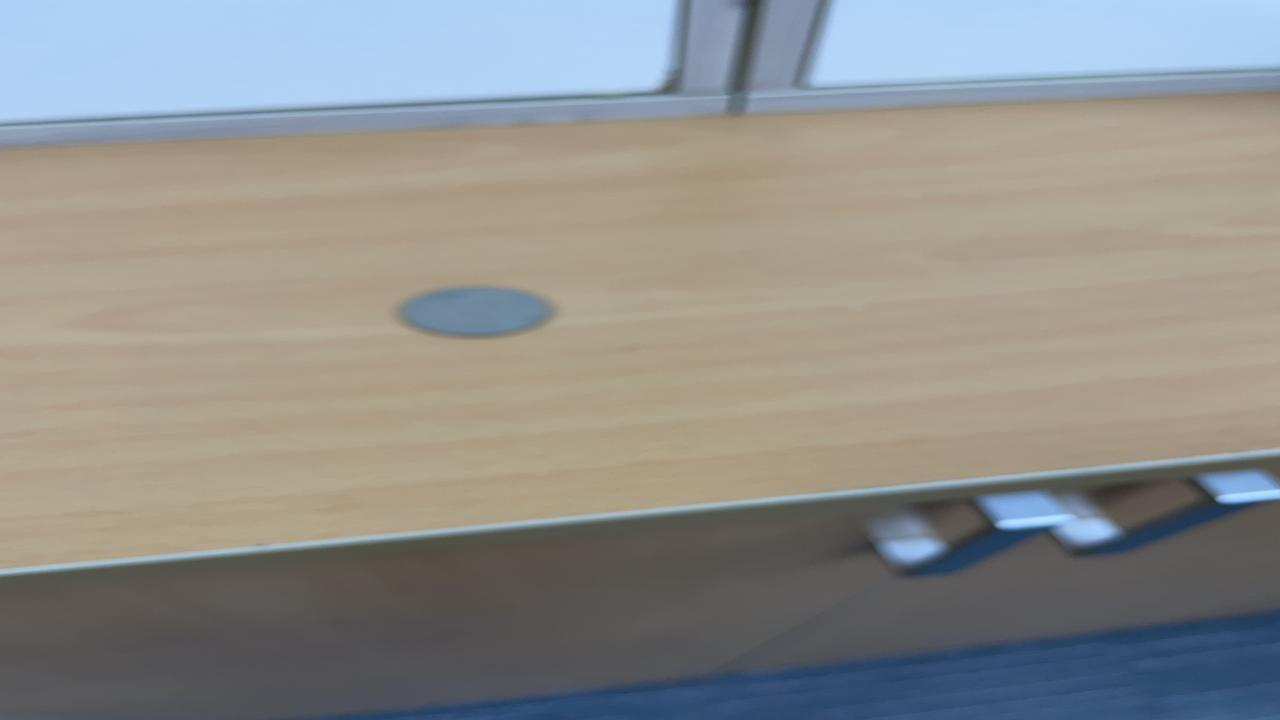coin: (393, 283, 561, 340)
